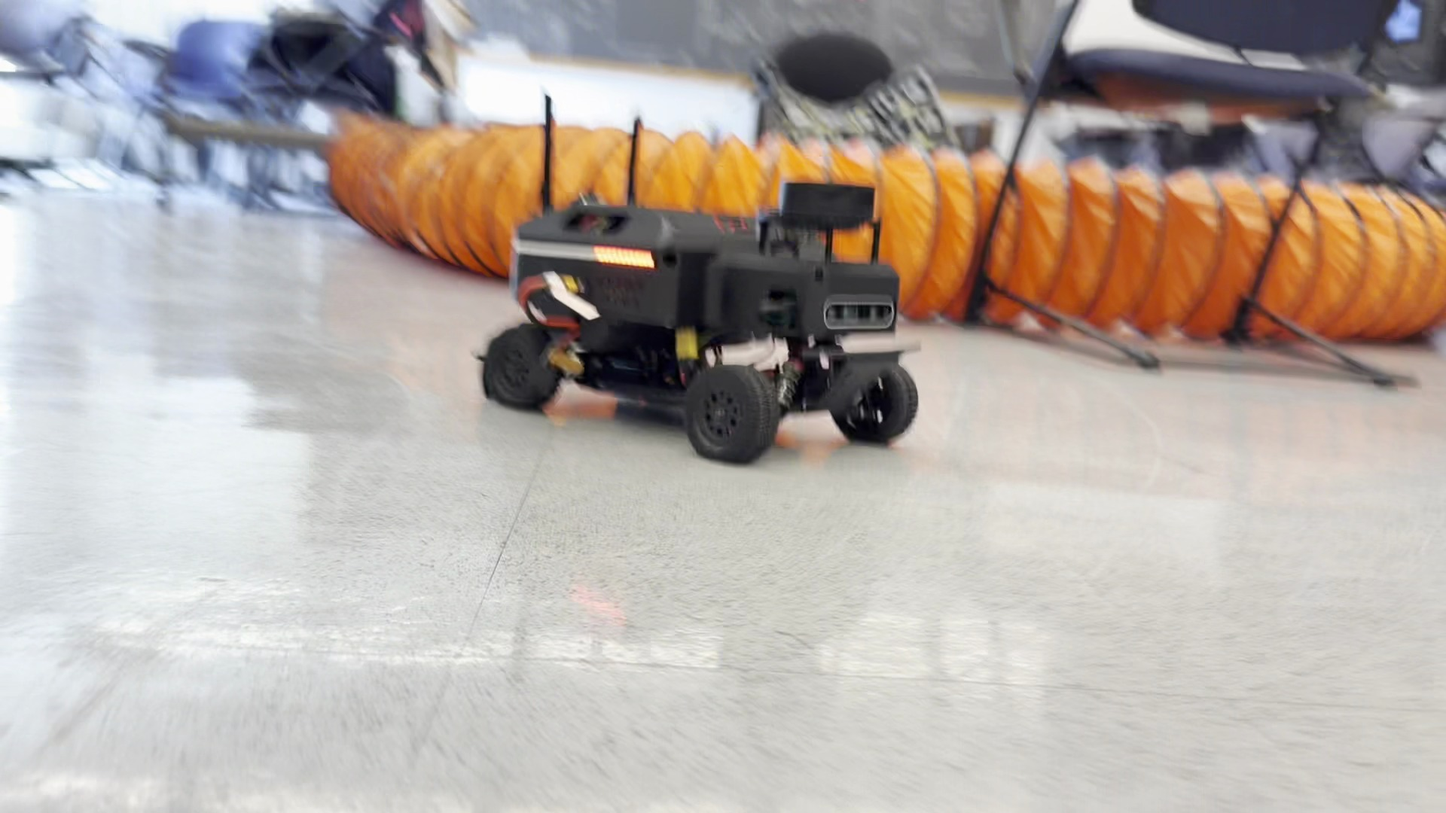racecar: (479, 178, 922, 466)
